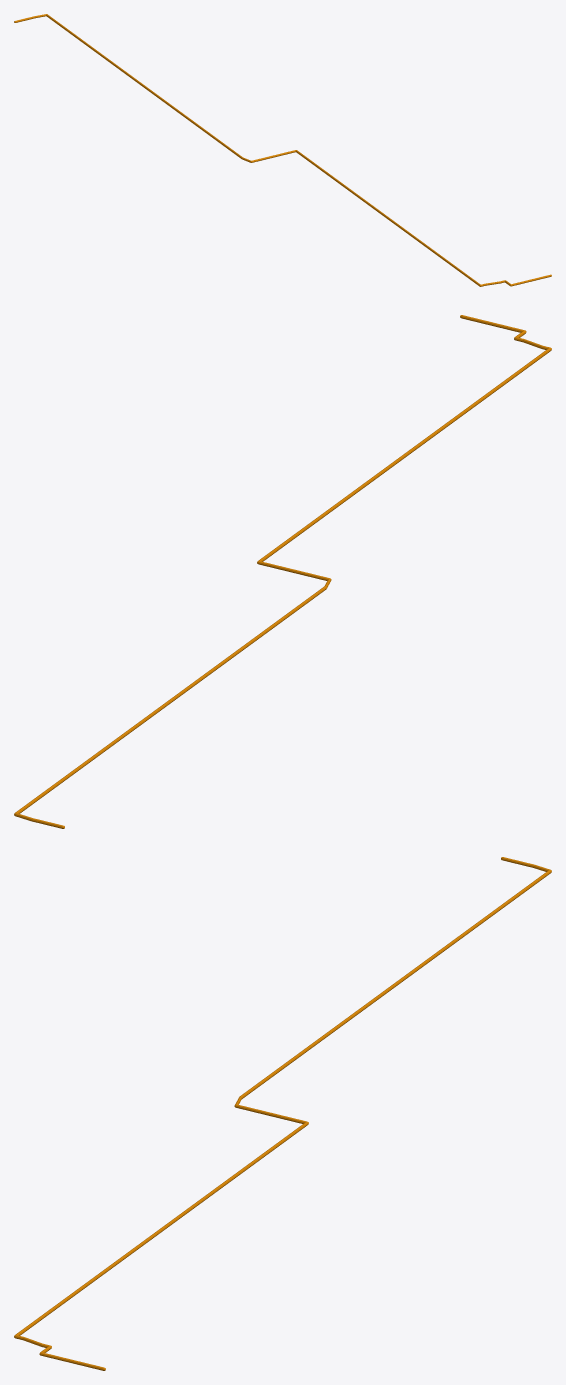
3 views of the same model, one above another, from view 1: azimuth 30°, elevation 25°; view 2: azimuth 150°, elevation 25°; view 3: azimuth 330°, elevation 25° (orthographic). The views are drawn at different scales.
Bounding box in the file's own units: 1443 × 20 × 6858.
